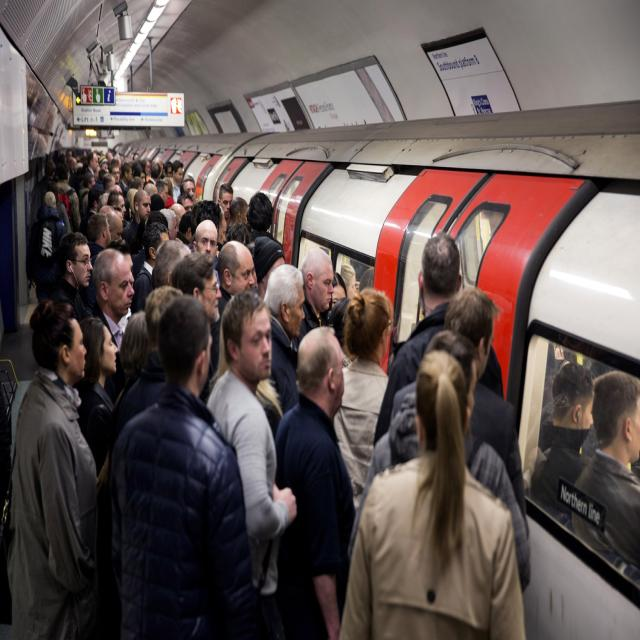body: (90, 294, 268, 639), (339, 356, 525, 640), (345, 328, 534, 602), (0, 129, 284, 292), (5, 296, 109, 639), (201, 286, 300, 640), (389, 286, 527, 527), (271, 322, 360, 640), (376, 233, 505, 438), (331, 285, 396, 519), (570, 369, 640, 567), (116, 284, 184, 454), (531, 359, 598, 508), (170, 252, 223, 404), (258, 260, 306, 414), (90, 246, 135, 406), (78, 315, 120, 475), (293, 247, 335, 350), (49, 230, 94, 324), (116, 309, 151, 407), (329, 265, 362, 340)
